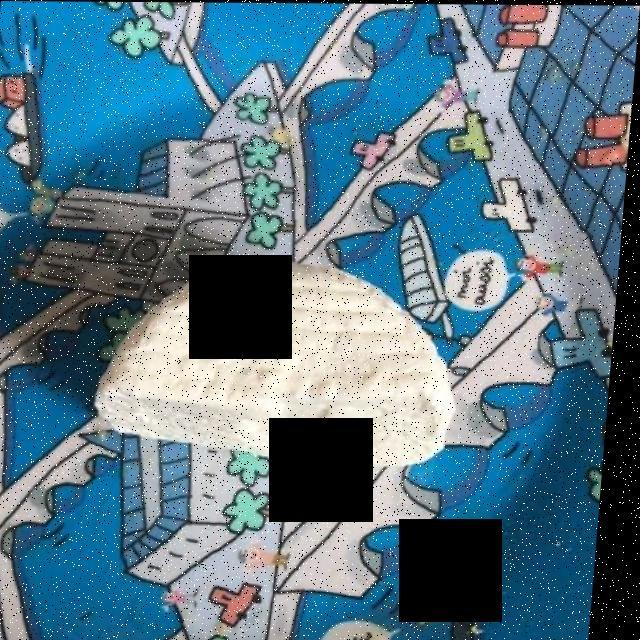cheese: (113, 261, 456, 458)
